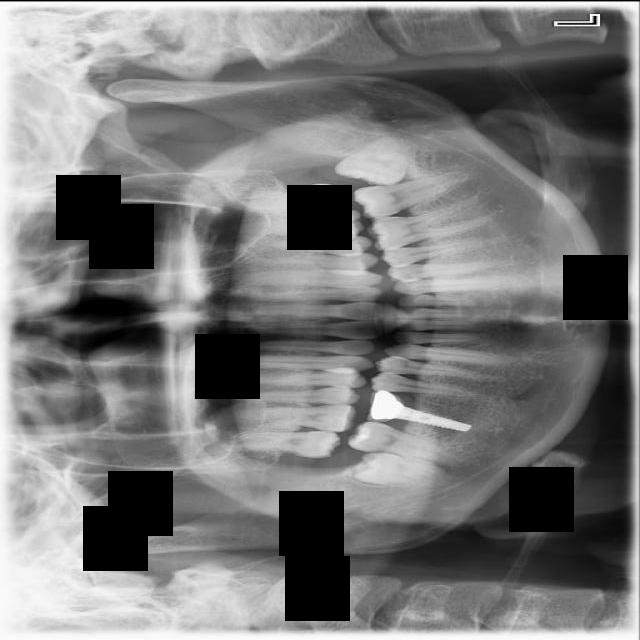52: (365, 387, 409, 426)
73: (570, 58, 580, 64)
BioHorizons Implant: (238, 180, 348, 218)
Biomet 3i Implant: (332, 134, 411, 185)
Blue Sky Bio Implant: (351, 168, 466, 222)
Caries: (224, 430, 342, 457)
Implant: (345, 416, 467, 466)
Keystone Dental Implant: (350, 450, 443, 487)
